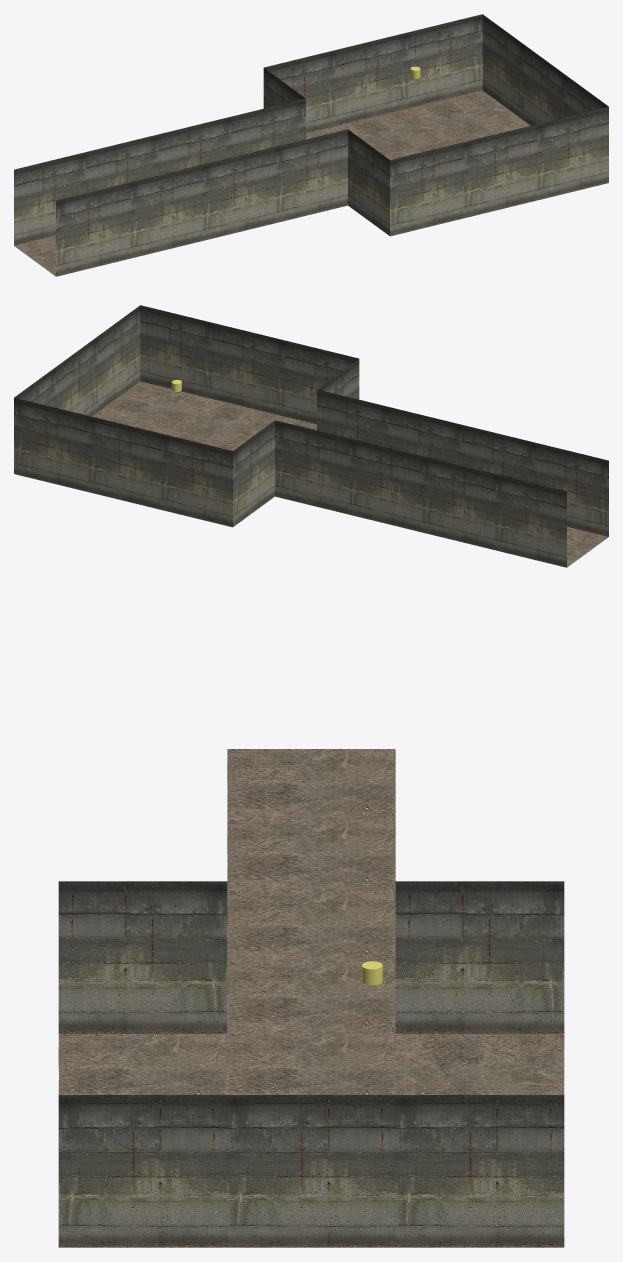
Rendered from room.dae.
3 views of the same model, one above another, from view 1: azimuth 30°, elevation 25°; view 2: azimuth 150°, elevation 25°; view 3: azimuth 270°, elevation 25° (orthographic). The views are drawn at different scales.
Visible parts, largest first — view 1: Corner_004, Corridor_003, Corner_001, Corridor_004, Corridor_001, Corridor_002, Wall_002, Corner_003, Wall_001, Corner_002, Wall_003, Floor_002; view 2: Corner_003, Corridor_003, Corner_002, Corridor_004, Corridor_001, Corridor_002, Wall_001, Corner_004, Wall_002, Corner_001, Wall_003, Floor_002; view 3: Corner_001, Corner_002, Corner_003, Corner_004, Wall_003, Corridor_003, Corridor_004, Corridor_002, Corridor_001, Floor_001.
Part boxes in pixels (box(x1,y1,x2,y2)): Corner_004: box(409, 14, 524, 138); Corridor_003: box(14, 152, 128, 276); Corner_001: box(348, 129, 462, 236); Corridor_004: box(87, 134, 201, 258); Corridor_001: box(233, 98, 347, 223); Corridor_002: box(160, 116, 274, 240); Wall_002: box(336, 32, 451, 155); Corner_003: box(536, 76, 608, 200); Wall_001: box(463, 124, 535, 218); Corner_002: box(263, 50, 342, 139); Wall_003: box(452, 45, 566, 143); Floor_002: box(384, 139, 457, 159); Corner_003: box(98, 305, 213, 429); Corridor_003: box(494, 443, 608, 567); Corner_002: box(160, 420, 274, 527); Corridor_004: box(421, 425, 535, 549); Corridor_001: box(275, 389, 389, 514); Corridor_002: box(348, 407, 462, 531); Wall_001: box(171, 323, 286, 446); Corner_004: box(14, 367, 86, 491); Wall_002: box(87, 415, 159, 509); Corner_001: box(280, 341, 359, 430); Wall_003: box(56, 336, 170, 434); Floor_002: box(165, 430, 238, 450); Corner_001: box(58, 881, 227, 1094); Corner_002: box(395, 881, 564, 1094); Corner_003: box(58, 1095, 227, 1247); Corner_004: box(395, 1095, 564, 1247); Wall_003: box(227, 1095, 395, 1247); Corridor_003: box(227, 749, 395, 820); Corridor_004: box(227, 820, 395, 891); Corridor_002: box(227, 891, 395, 962); Corridor_001: box(227, 962, 395, 1033); Floor_001: box(227, 1034, 395, 1094).
Size of the model in its own units: 14 by 6 by 2.23.
Materials: 2 (1 with a texture image).
